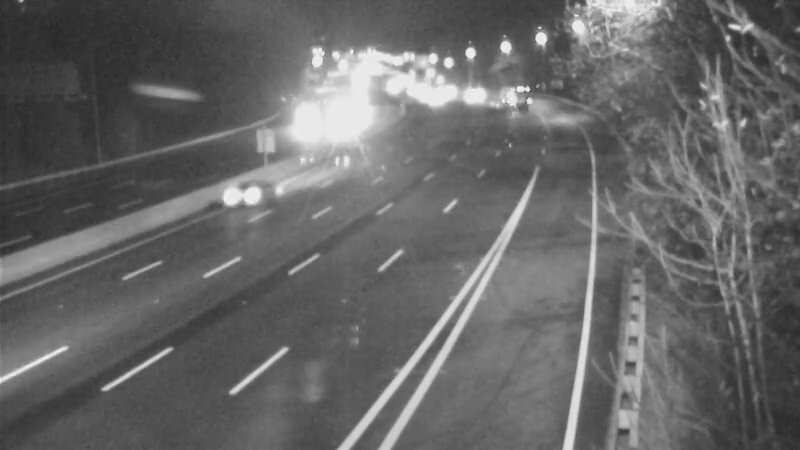vehicle: (208, 151, 288, 231), (489, 66, 539, 116), (449, 72, 499, 122), (409, 75, 459, 125), (281, 85, 331, 135), (327, 93, 377, 143)
